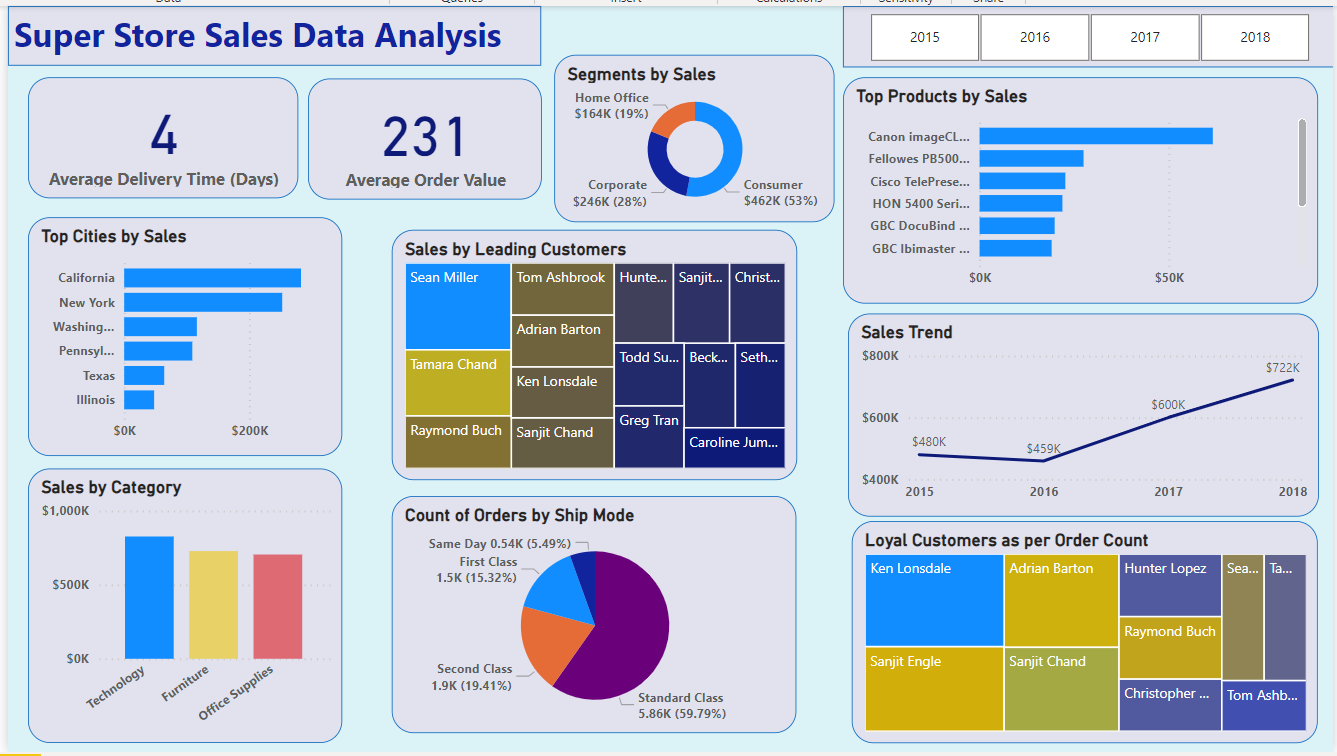

This screenshot's page, from the dashboard's own definition file:
{"tool":"powerbi","page":{"name":"Sales Analysis","canvas":[1280,720],"ordinal":0},"visuals":[{"type":"lineChart","title":"Sales Trend","fields":{"Category":["superstore_final_dataset (1).Order_Date.Variation.Date Hierarchy.Year","superstore_final_dataset (1).Order_Date.Variation.Date Hierarchy.Quarter","superstore_final_dataset (1).Order_Date.Variation.Date Hierarchy.Month","superstore_final_dataset (1).Order_Date.Variation.Date Hierarchy.Day"],"Y":["superstore_final_dataset (1).Sales"]},"box":[810.8,296.3,454.1,196.2],"z":0},{"type":"textbox","box":[0,0,514.5,57.6],"z":1000},{"type":"clusteredBarChart","title":"Top Cities by Sales","fields":{"Category":["superstore_final_dataset (1).State"],"Y":["superstore_final_dataset (1).Sales"]},"box":[19.2,204.4,303.2,230.5],"z":2000},{"type":"clusteredBarChart","title":"Top Products by Sales","fields":{"Category":["superstore_final_dataset (1).Product_Name"],"Y":["superstore_final_dataset (1).Sales"]},"box":[805.3,68.6,458.2,218.1],"z":3000},{"type":"donutChart","title":"Segments by Sales","fields":{"Category":["superstore_final_dataset (1).Segment"],"Y":["superstore_final_dataset (1).Sales"]},"box":[527,47,270.2,161.6],"z":4000},{"type":"columnChart","fields":{"Category":["superstore_final_dataset (1).Category Hierarchy.Category","superstore_final_dataset (1).Category Hierarchy.Sub_Category"],"Y":["superstore_final_dataset (1).Sales"]},"box":[19.2,445.9,303.2,264.8],"z":5000},{"type":"slicer","fields":{"Values":["superstore_final_dataset (1).Order_Date.Variation.Date Hierarchy.Year"]},"box":[805.3,0,474.7,59],"z":6000},{"type":"card","fields":{"Values":["superstore_final_dataset (1).Average TAT"]},"box":[19.3,68.7,260.5,117],"z":7000},{"type":"treemap","title":"Sales by Leading Customers ","fields":{"Values":["superstore_final_dataset (1).Sales"],"Group":["superstore_final_dataset (1).Customer_Name"]},"box":[370.4,215.4,391,241.5],"z":8000},{"type":"treemap","title":"Loyal Customers as per Order Count","fields":{"Group":["superstore_final_dataset (1).Customer_Name"],"Values":["superstore_final_dataset (1).Order_ID"]},"box":[813.5,496.6,450,214],"z":9000},{"type":"card","fields":{"Values":["superstore_final_dataset (1).Average Order Value"]},"box":[289.4,69.9,225.5,117],"z":10000},{"type":"pieChart","title":"Count of Orders by Ship Mode","fields":{"Category":["superstore_final_dataset (1).Ship_Mode"],"Y":["superstore_final_dataset (1).Order_ID"]},"box":[370.3,472.8,390.8,229.1],"z":11000}]}

Visuals, with their boxes in screenshot pixels (x1, y1, x2, y2):
"Sales Trend" lineChart: <region>842, 305, 1310, 507</region>
textbox: <region>7, 0, 537, 59</region>
"Top Cities by Sales" clusteredBarChart: <region>27, 211, 339, 448</region>
"Top Products by Sales" clusteredBarChart: <region>836, 71, 1308, 295</region>
"Segments by Sales" donutChart: <region>550, 48, 828, 215</region>
columnChart - superstore_final_dataset (1).Category Hierarchy.Category x superstore_final_dataset (1).Category Hierarchy.Sub_Category: <region>27, 459, 339, 732</region>
slicer - superstore_final_dataset (1).Order_Date.Variation.Date Hierarchy.Year: <region>836, 0, 1325, 61</region>
card - superstore_final_dataset (1).Average TAT: <region>27, 71, 295, 191</region>
"Sales by Leading Customers " treemap: <region>389, 222, 791, 471</region>
"Loyal Customers as per Order Count" treemap: <region>845, 512, 1308, 732</region>
card - superstore_final_dataset (1).Average Order Value: <region>305, 72, 537, 193</region>
"Count of Orders by Ship Mode" pieChart: <region>388, 487, 791, 723</region>
